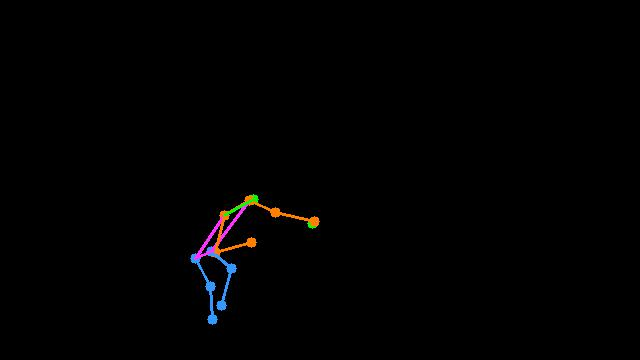normal: (177, 169, 325, 341)
